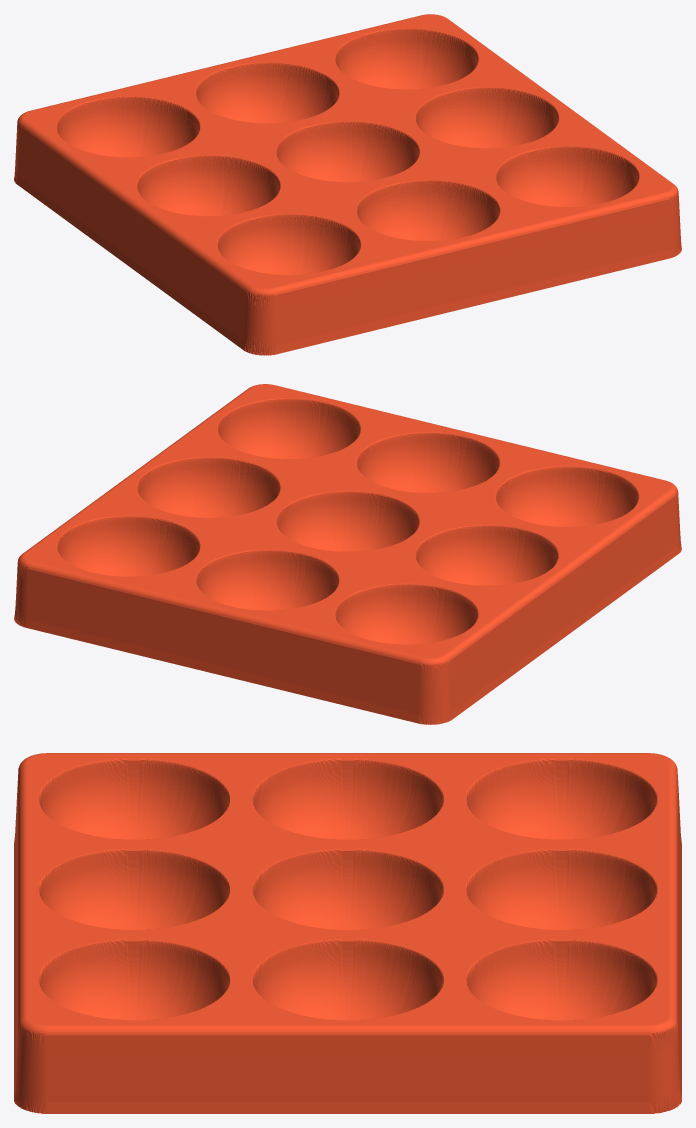
File: mold.glb
3 views of the same model, one above another, from view 1: azimuth 30°, elevation 25°; view 2: azimuth 150°, elevation 25°; view 3: azimuth 270°, elevation 25° (orthographic). The views are drawn at different scales.
Parts seen in each view (by area): view 1: geometry_0; view 2: geometry_0; view 3: geometry_0.
Part boxes in pixels (x1=…): geometry_0: x1=14, y1=14, x2=681, y2=355; geometry_0: x1=14, y1=384, x2=681, y2=724; geometry_0: x1=14, y1=753, x2=681, y2=1113.
Size of the model in its own units: 0.1804 by 0.0248 by 0.1804.
